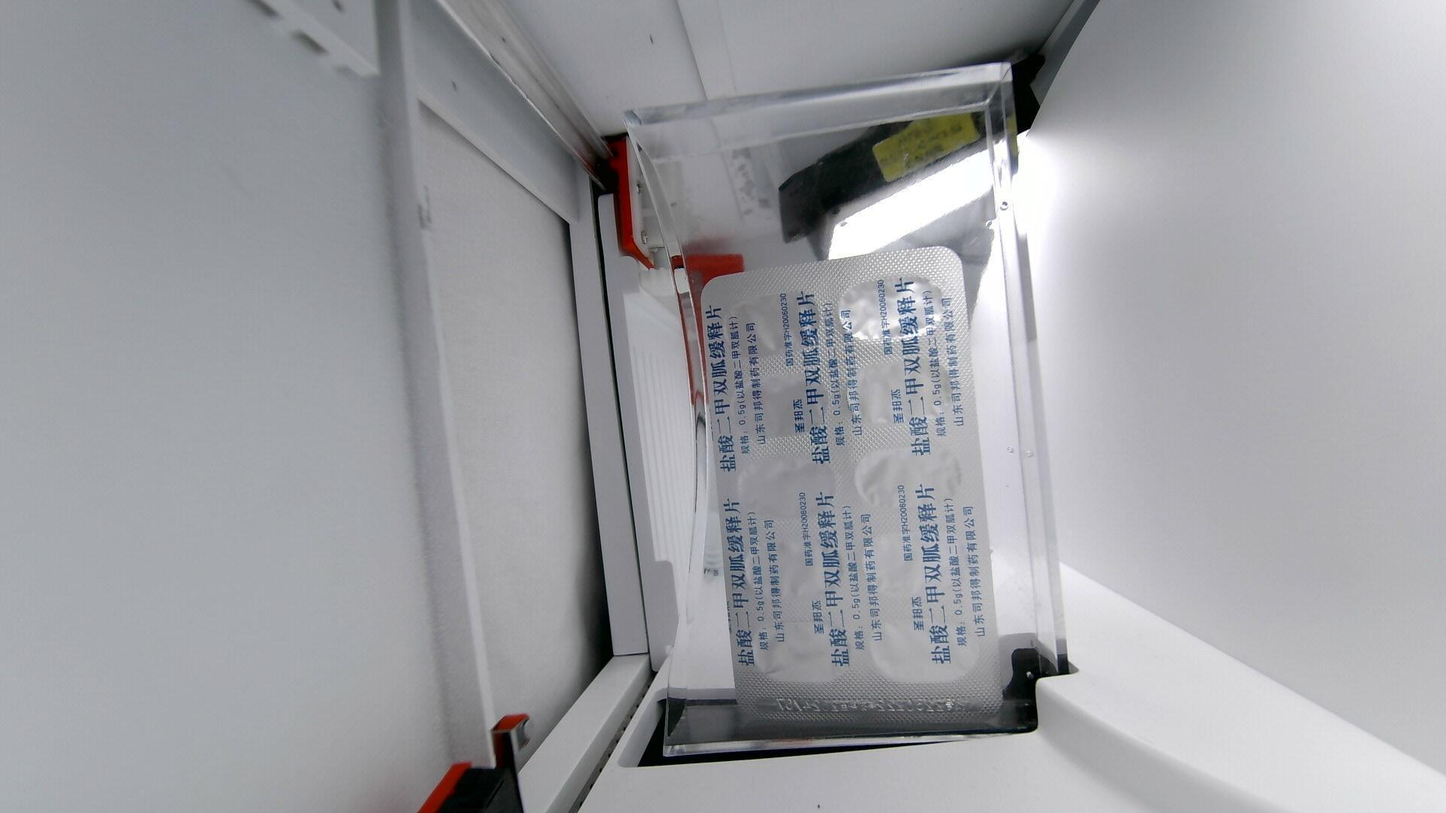Pill Back: (868, 612, 992, 685), (712, 369, 838, 440), (831, 278, 956, 344), (844, 354, 965, 422), (739, 534, 859, 600), (867, 528, 980, 597), (853, 442, 970, 507), (750, 613, 859, 681), (718, 288, 825, 355), (736, 454, 841, 522)
